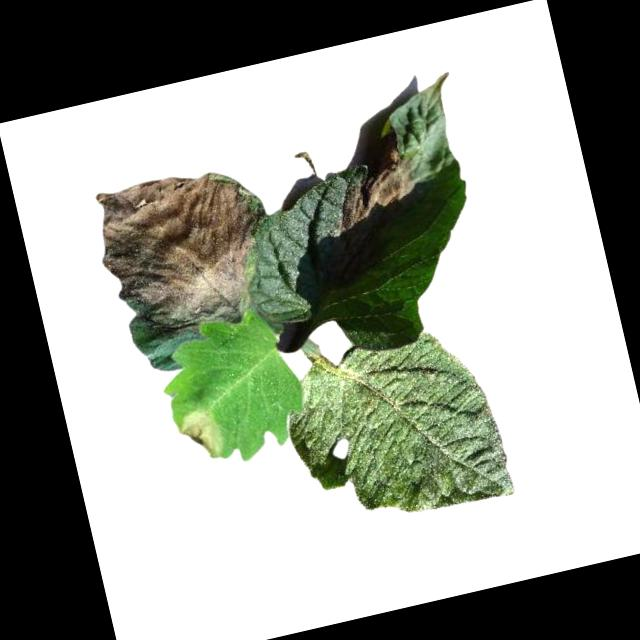Late_blight: (86, 156, 279, 348), (320, 123, 423, 232), (174, 404, 228, 466)
